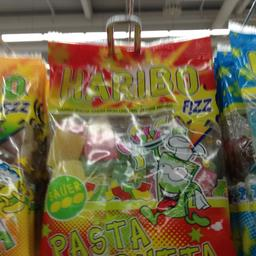candy: (39, 33, 222, 255)
